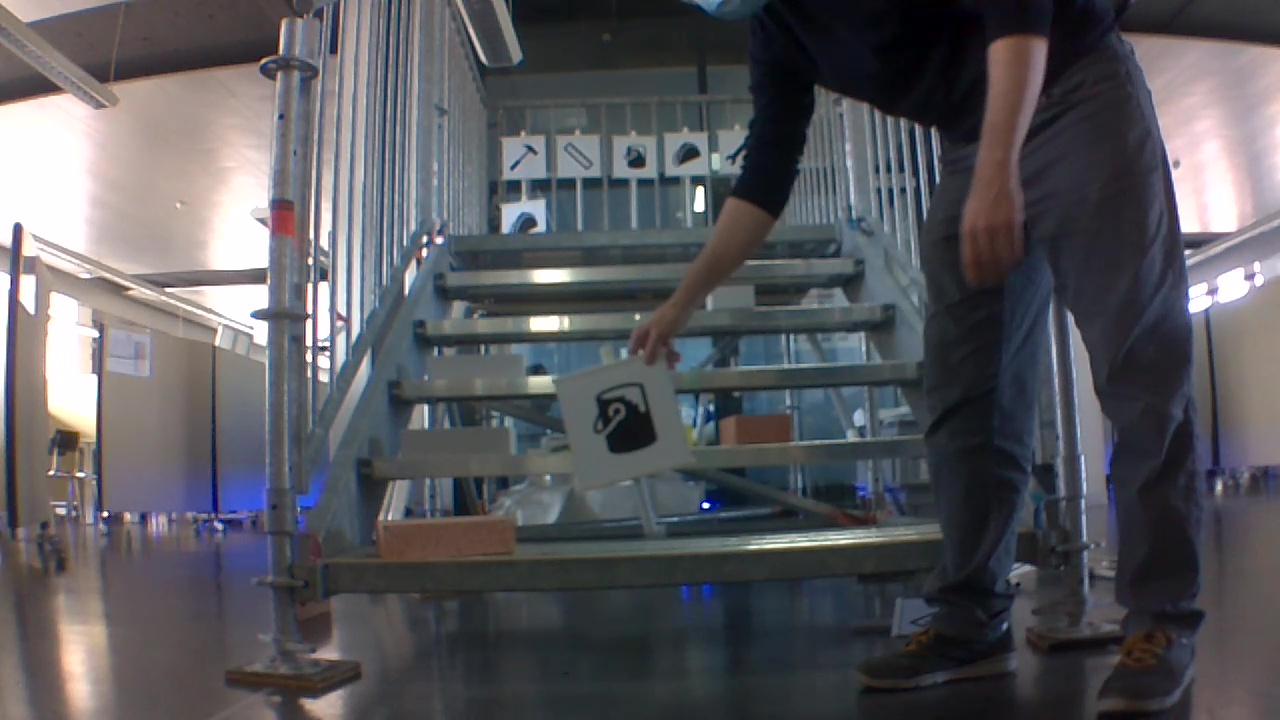brick: (378, 516, 513, 562), (402, 426, 514, 458), (428, 352, 526, 380), (721, 414, 793, 445), (710, 286, 755, 309)
bucket: (588, 376, 660, 458), (618, 140, 652, 172)
edge: (327, 527, 1041, 588)
hammer: (503, 141, 540, 174)
ruler: (559, 137, 596, 173)
taco: (668, 137, 704, 169), (505, 206, 538, 234)
